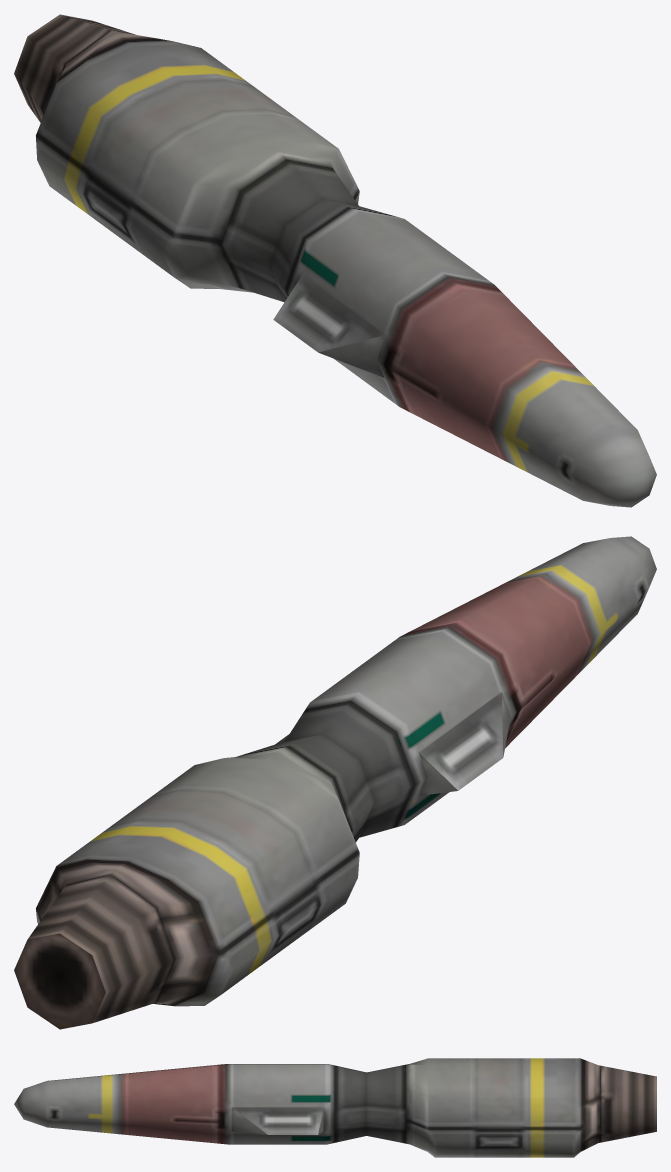
Rendered from Tan_Torpedo_Projectile_02.glb.
The picture shows the model from 3 angles, top to bottom: view 1: azimuth 30°, elevation 25°; view 2: azimuth 150°, elevation 25°; view 3: azimuth 270°, elevation 25°; orthographic projection. The views are drawn at different scales.
Visible parts, largest first — view 1: tan_torpedo_01_t2; view 2: tan_torpedo_01_t2; view 3: tan_torpedo_01_t2.
Boxes of the visible parts, <box> form: tan_torpedo_01_t2: <box>14,14,656,507</box>; tan_torpedo_01_t2: <box>14,536,656,1029</box>; tan_torpedo_01_t2: <box>14,1058,656,1157</box>.
Bounding box in the file's own units: 0.1098 × 0.0754 × 0.565.
1 material, 1 textured.
